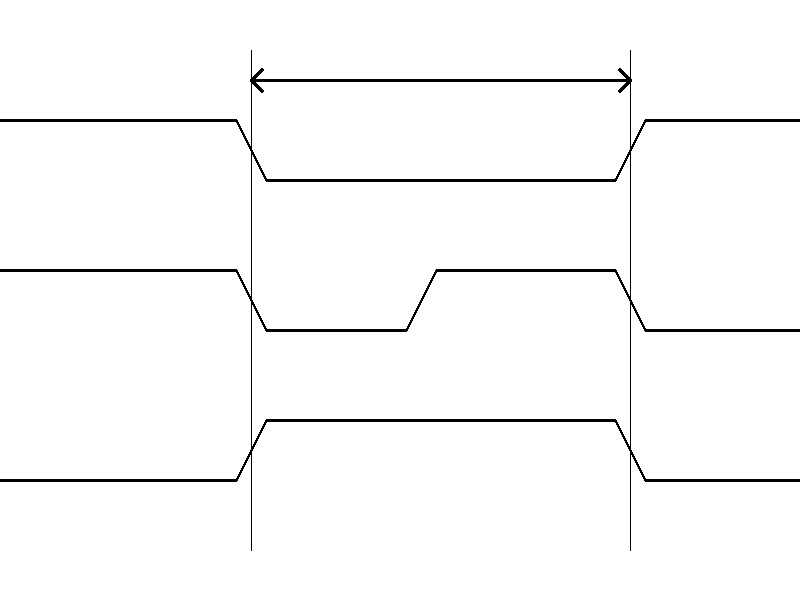double_arrow: (251, 65, 630, 95)
